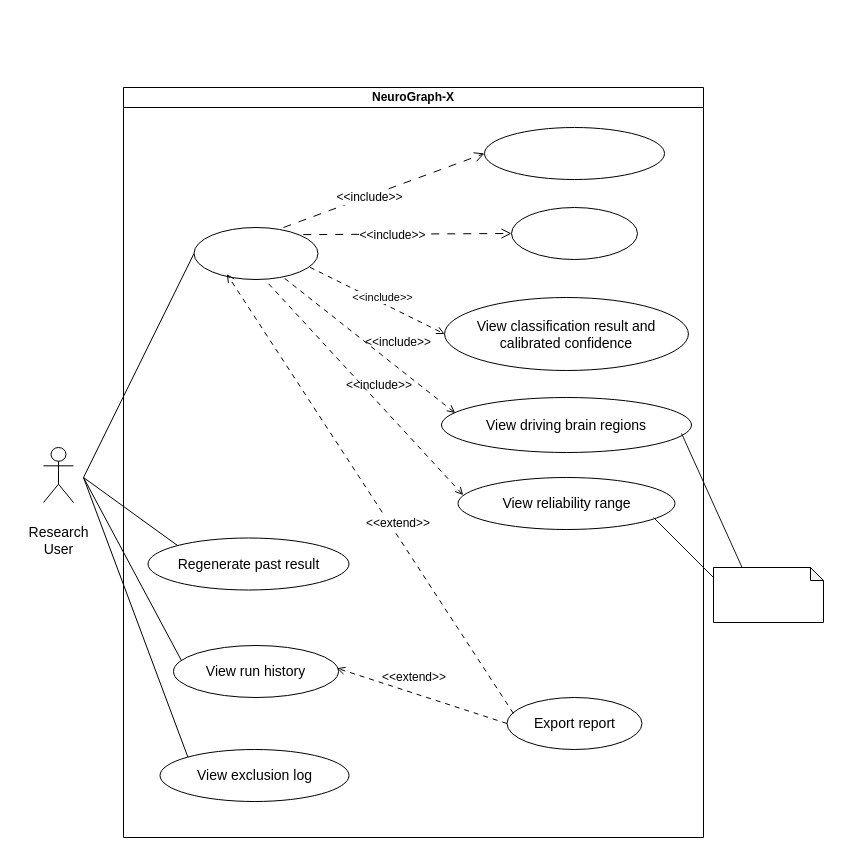
This 841x855 diagram has some shape labels left out. Each missing label, with the box of its shape:
Choose atlas: (510, 206, 638, 260)
FYP-II: (712, 566, 824, 622)
Run analysis: (193, 226, 318, 280)
Select participant: (484, 126, 664, 180)
